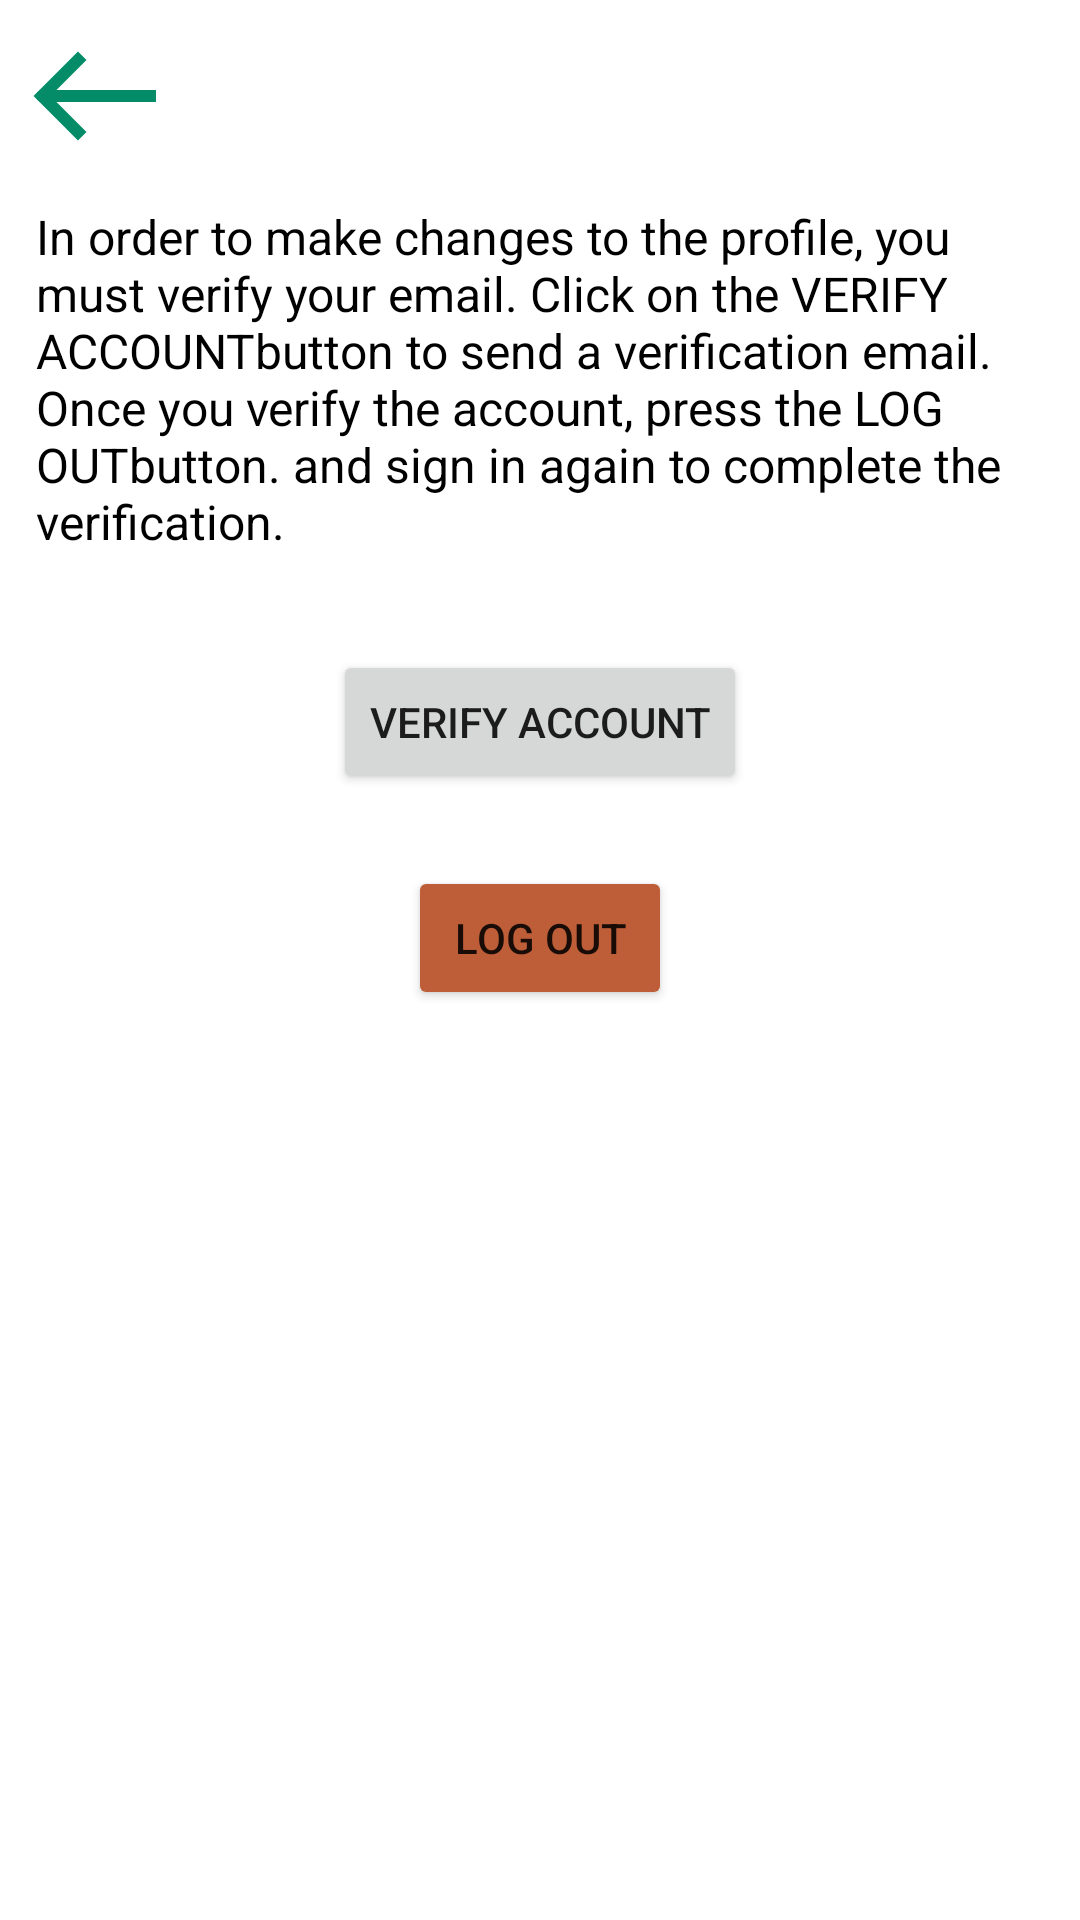

Where to tap for icons on this 1080 × 1920 app screen, as (x=x, y=y):
Back: (x=94, y=96)
